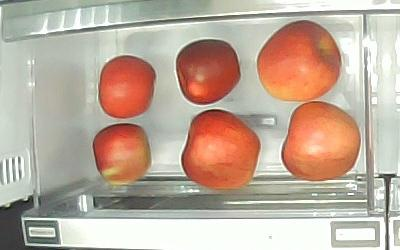apple: (257, 20, 343, 102), (280, 100, 361, 182), (180, 109, 260, 192), (174, 38, 242, 106), (98, 54, 157, 120), (92, 123, 152, 187)
